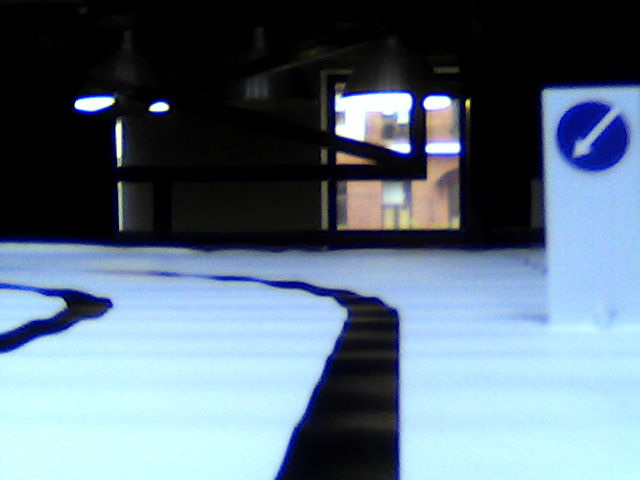prep: (555, 102, 629, 173)
